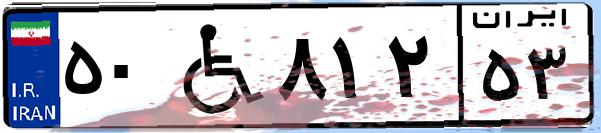0: (110, 28, 158, 98)
1: (330, 28, 385, 110)
2: (385, 28, 445, 110)
3: (525, 38, 570, 115)
5: (57, 26, 110, 100), (475, 38, 525, 113)
8: (270, 28, 330, 110)
ژ (معلولین و جانبازان): (158, 12, 270, 120)
